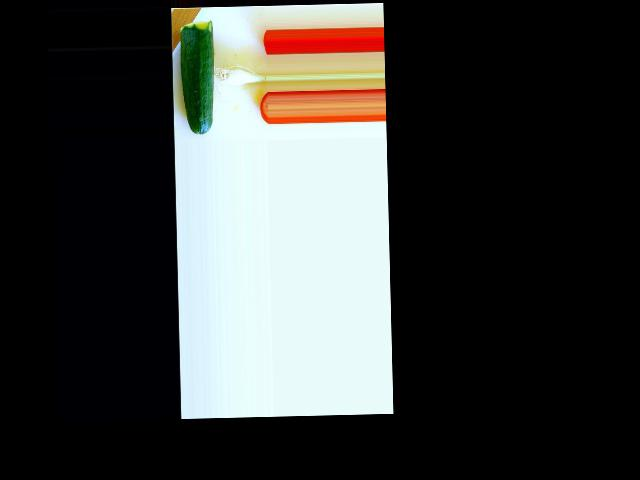cucumber: (179, 20, 215, 136)
